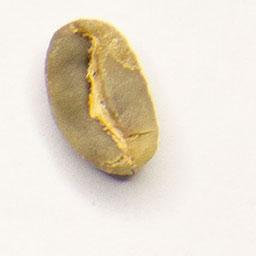longberry: (41, 16, 163, 184)
